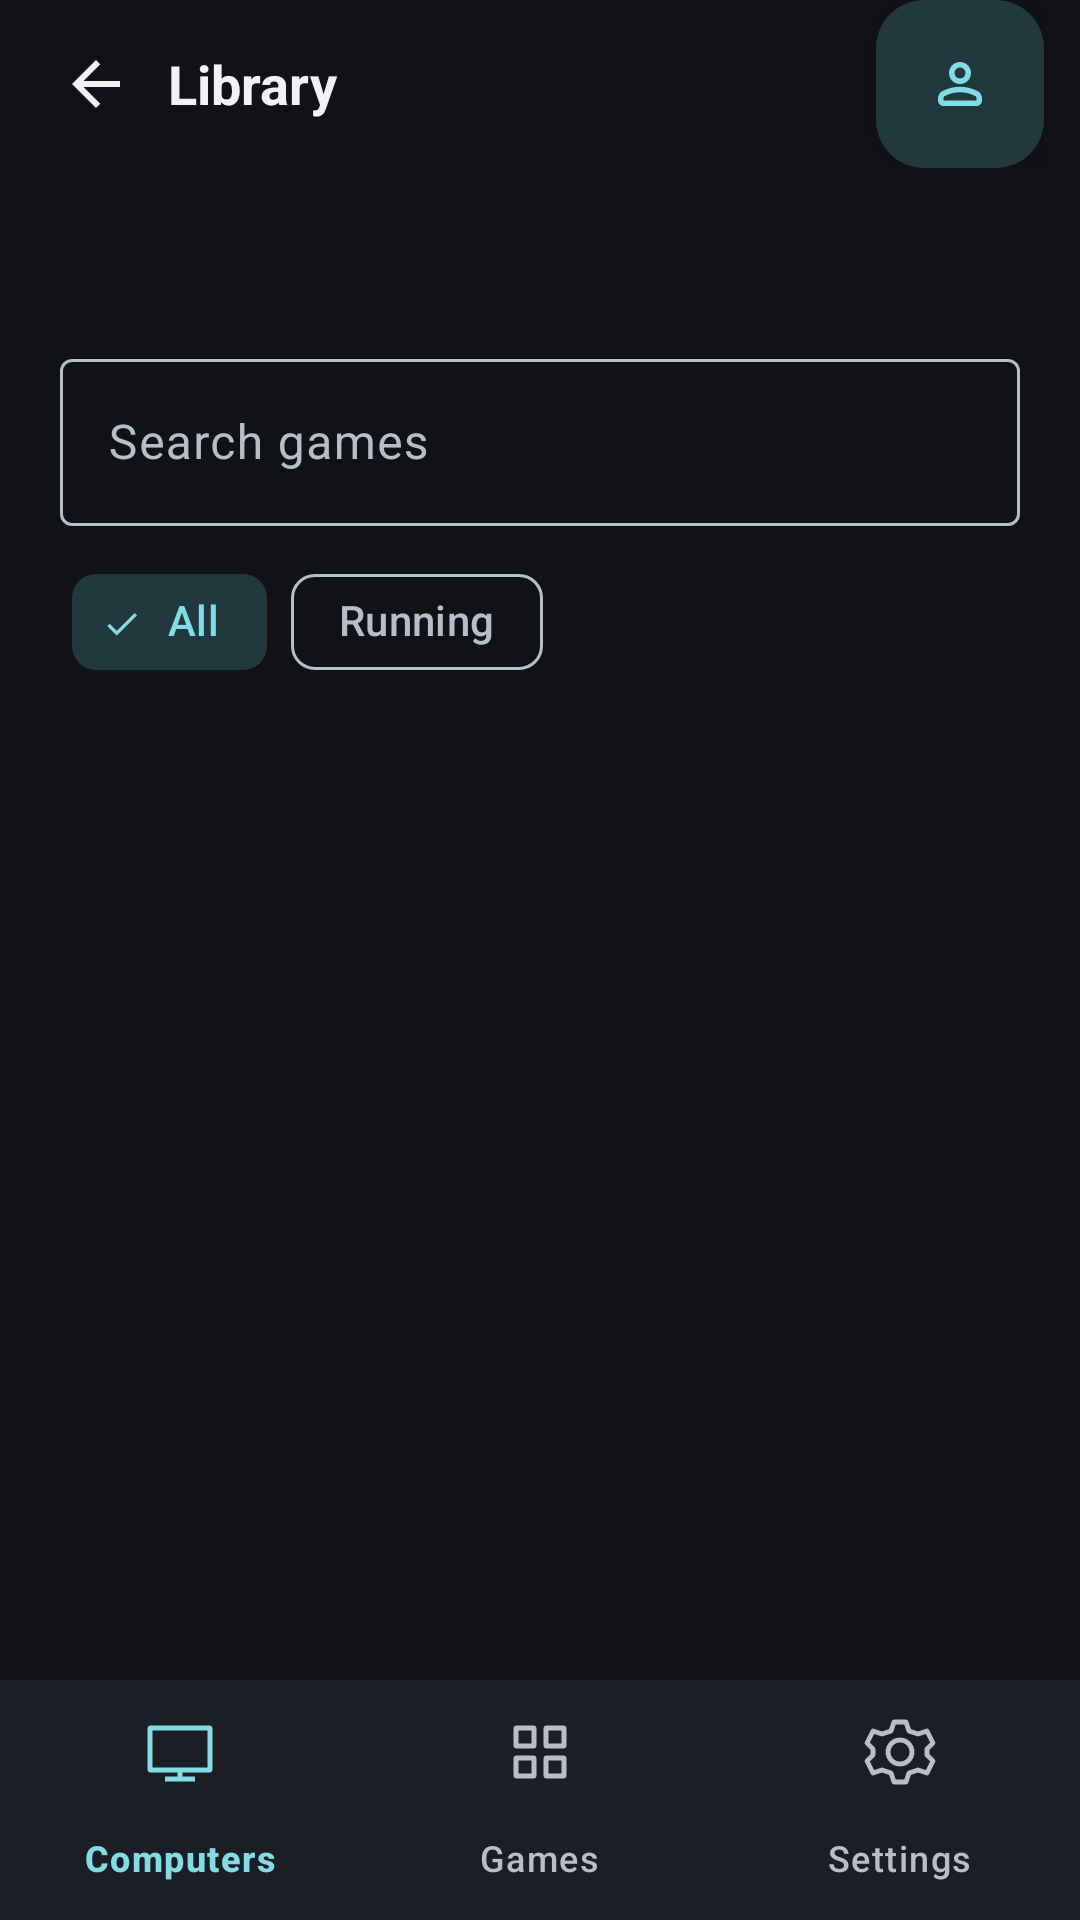

Named icons in this screenshot (1080*1920) and their bounding boxes, (x1, y1, x2, y2):
Back: (72, 60, 120, 108)
Choose Profile: (876, 0, 1044, 168)
